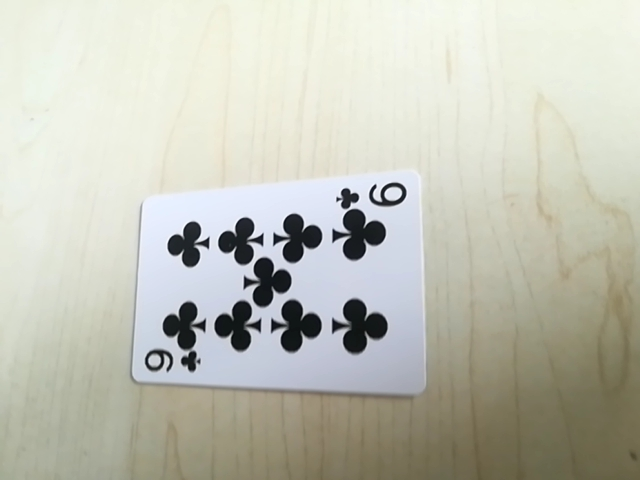mh 9: (336, 177, 408, 212), (140, 345, 202, 380)
